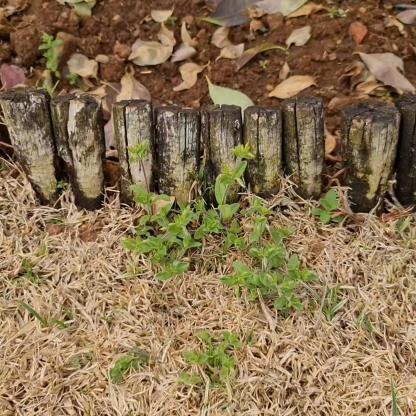Weeds: (123, 134, 314, 321), (180, 326, 244, 390), (111, 348, 146, 389), (41, 30, 65, 81), (314, 190, 345, 227)
